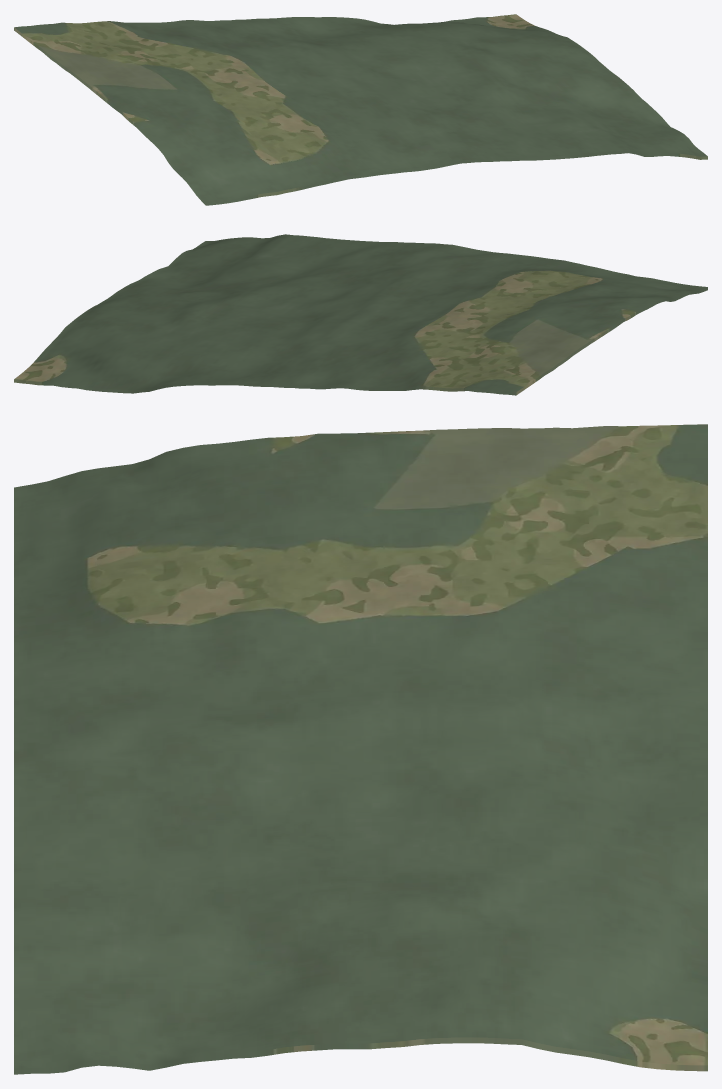
3 renders of one model, top to bottom at view 1: azimuth 30°, elevation 25°; view 2: azimuth 150°, elevation 25°; view 3: azimuth 270°, elevation 25°, orthographic. The views are drawn at different scales.
Visible parts, largest first — view 1: terrain; view 2: terrain; view 3: terrain.
Boxes of the visible parts, x1,y1,x2,y2 form: terrain: [14, 14, 707, 205]; terrain: [14, 234, 707, 395]; terrain: [14, 424, 707, 1074].
Size of the model in its own units: 500 by 109 by 331.
Materials: 1 (1 with a texture image).
